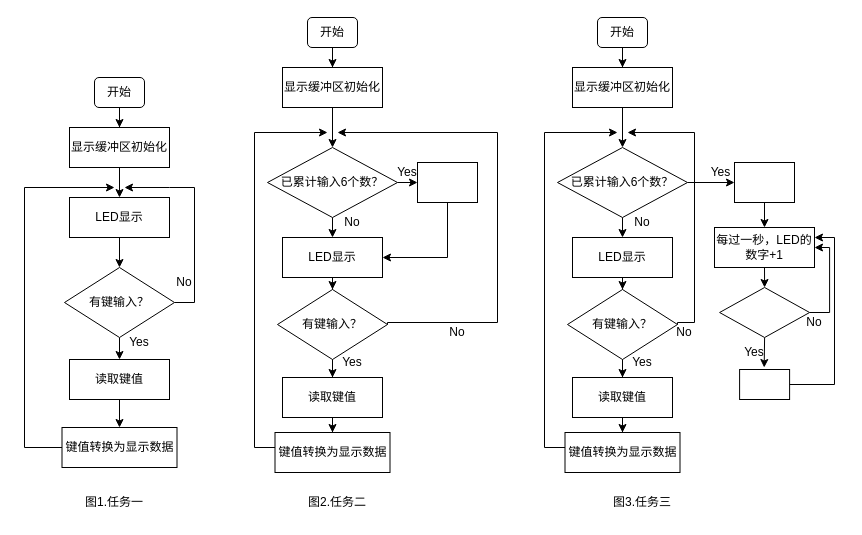
This 862x535 diagram has some shape labels left out. Each missing label, with the centre of its shape:
关闭输入: the point at 764,182
按时分秒原则，是否进位？: the point at 764,312
进位: the point at 764,384
锁定LED0: the point at 447,182
